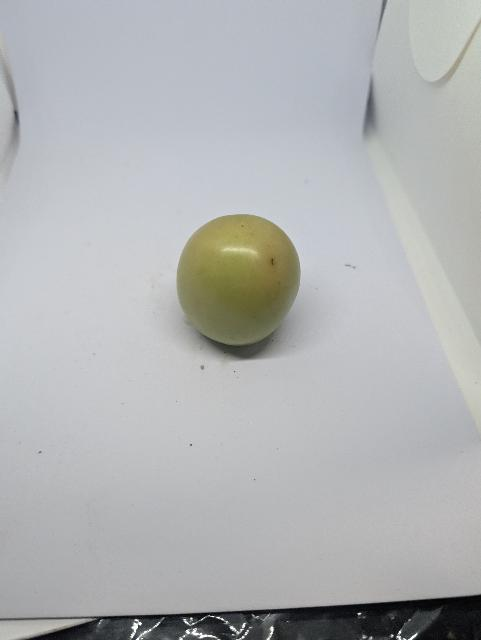breaker: (174, 211, 303, 349)
